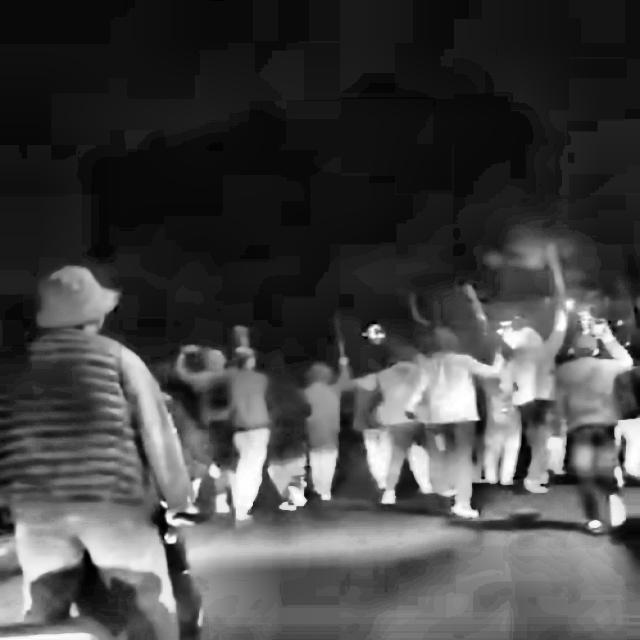robbery: (0, 234, 638, 639)
